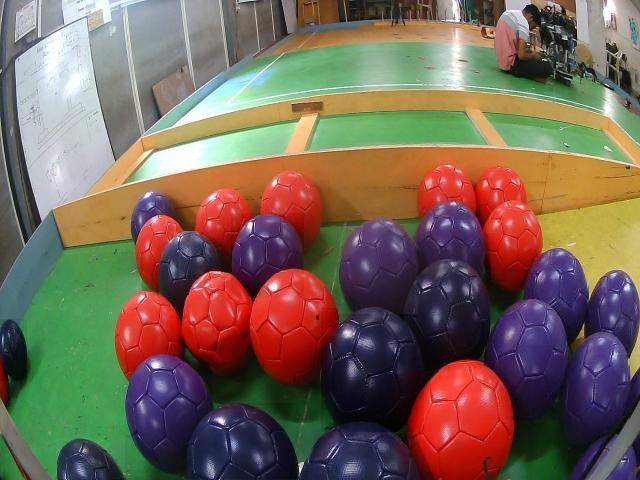jambhalya: (125, 355, 212, 473), (485, 298, 568, 420), (559, 334, 629, 448), (340, 219, 418, 314), (231, 214, 304, 298), (525, 248, 588, 345), (415, 202, 485, 274), (585, 270, 640, 355), (131, 190, 175, 243)
kaalyya: (321, 308, 424, 432), (405, 260, 491, 371), (186, 404, 299, 480), (300, 422, 420, 479), (159, 232, 221, 314), (57, 438, 125, 480), (0, 320, 27, 381)
